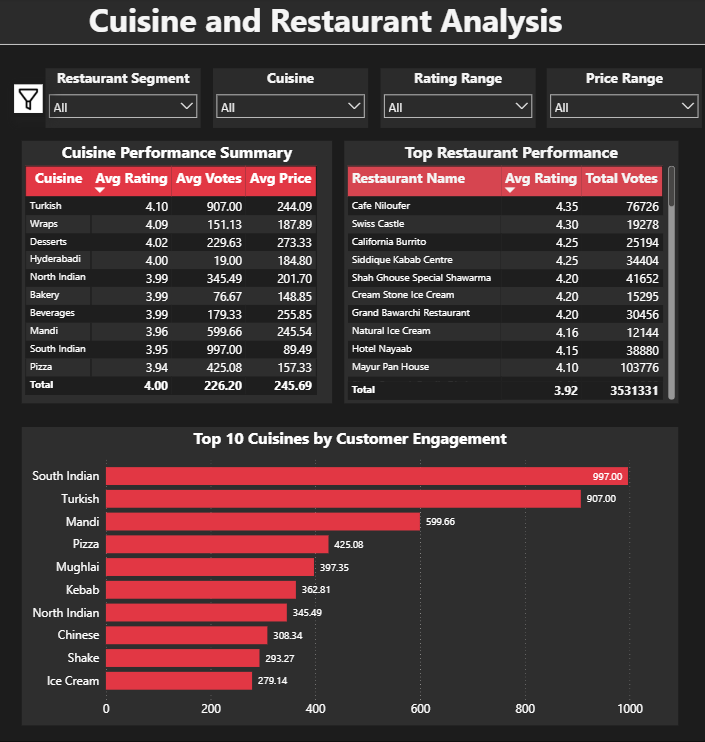

This screenshot's page, from the dashboard's own definition file:
{"tool":"powerbi","page":{"name":"Page 2","canvas":[950,1000],"ordinal":1},"visuals":[{"type":"pivotTable","title":"Cuisine Performance Summary","fields":{"Rows":["zomato_final.cuisine"],"Values":["Avg(zomato_final.avg_rating)","Avg(zomato_final.total_votes)","Avg(zomato_final.price)"]},"box":[32,192,416,352],"z":0},{"type":"actionButton","box":[0,0,100,40],"z":1000},{"type":"pivotTable","title":"Top Restaurant Performance","fields":{"Rows":["zomato_hyderabad_cleaned.restaurant_name"],"Values":["Avg(zomato_hyderabad_cleaned.avg_rating)","Sum(zomato_hyderabad_cleaned.total_votes)"]},"box":[464,192,448,352],"z":2000},{"type":"slicer","title":"Restaurant Segment","fields":{"Values":["zomato_final.segment"]},"box":[64,96,208,80],"z":3000},{"type":"slicer","title":"Cuisine","fields":{"Values":["zomato_final.cuisine"]},"box":[288,96,208,80],"z":4000},{"type":"slicer","title":"Rating Range","fields":{"Values":["zomato_final.avg_rating"]},"box":[512,96,208,80],"z":5000},{"type":"slicer","title":"Price Range","fields":{"Values":["zomato_final.price"]},"box":[736,96,208,80],"z":6000},{"type":"clusteredBarChart","title":"Top 10 Cuisines by Customer Engagement","fields":{"Category":["zomato_final.cuisine"],"Y":["Avg(zomato_final.total_votes)"]},"box":[32,576,880,400],"z":7000},{"type":"textbox","title":"Cuisine and Restaurant Analysis","box":[-74,0,1024,64],"z":8000},{"type":"image","box":[16,112,48,48],"z":9000}]}

Visuals, with their boxes in screenshot pixels (x1, y1, x2, y2), scaled from the page's 950x1000 canvas onto the 705x742 screenshot:
"Cuisine Performance Summary" pivotTable: (x1=24, y1=142, x2=332, y2=404)
actionButton: (x1=0, y1=0, x2=74, y2=30)
"Top Restaurant Performance" pivotTable: (x1=344, y1=142, x2=677, y2=404)
"Restaurant Segment" slicer: (x1=47, y1=71, x2=202, y2=131)
"Cuisine" slicer: (x1=214, y1=71, x2=368, y2=131)
"Rating Range" slicer: (x1=380, y1=71, x2=534, y2=131)
"Price Range" slicer: (x1=546, y1=71, x2=701, y2=131)
"Top 10 Cuisines by Customer Engagement" clusteredBarChart: (x1=24, y1=427, x2=677, y2=724)
"Cuisine and Restaurant Analysis" textbox: (x1=0, y1=0, x2=704, y2=47)
image: (x1=12, y1=83, x2=47, y2=119)
